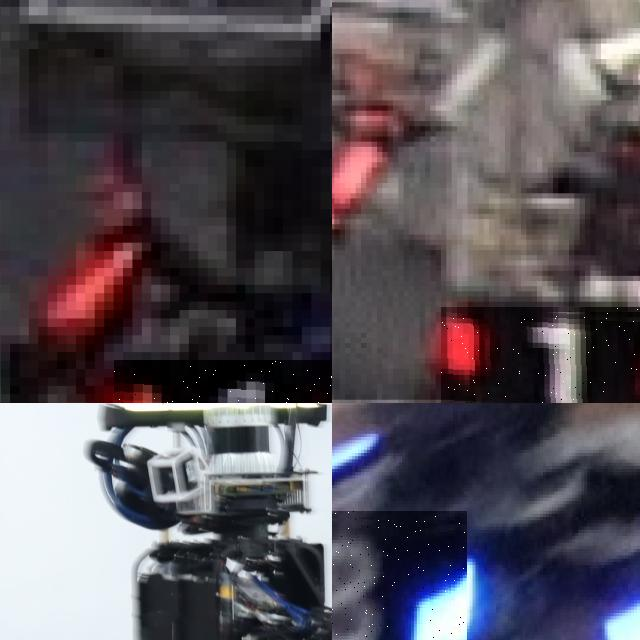B3: (332, 510, 466, 640)
R1: (440, 307, 640, 403), (113, 360, 332, 403)
